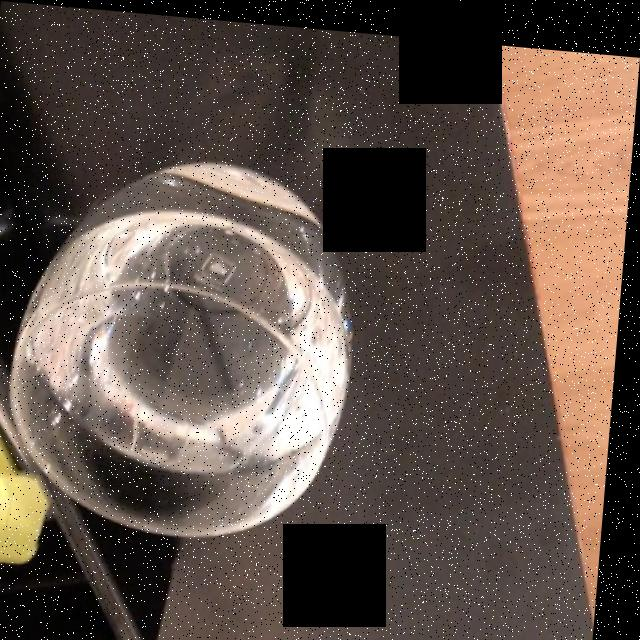water: (16, 154, 351, 478)
